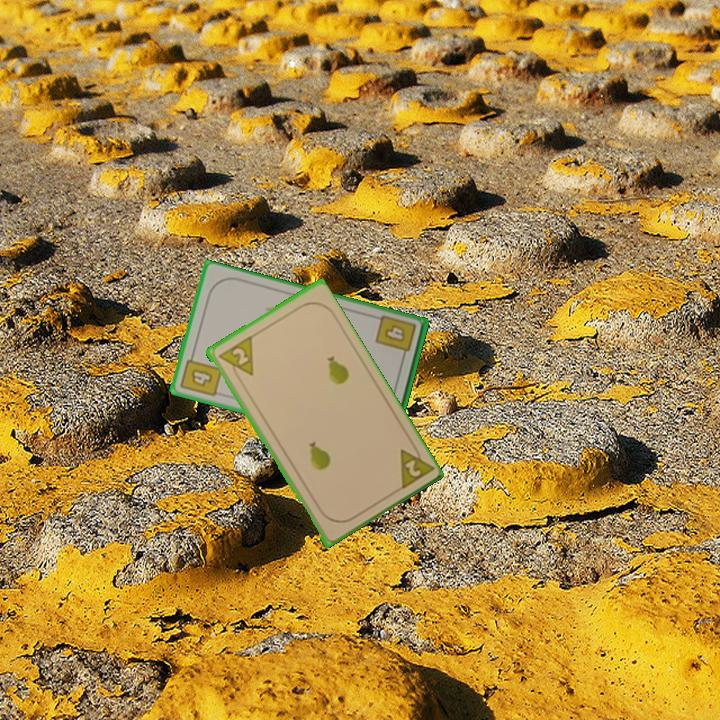2p: (395, 438, 435, 493), (214, 333, 256, 384)
4b: (177, 349, 225, 400), (372, 312, 419, 363)
